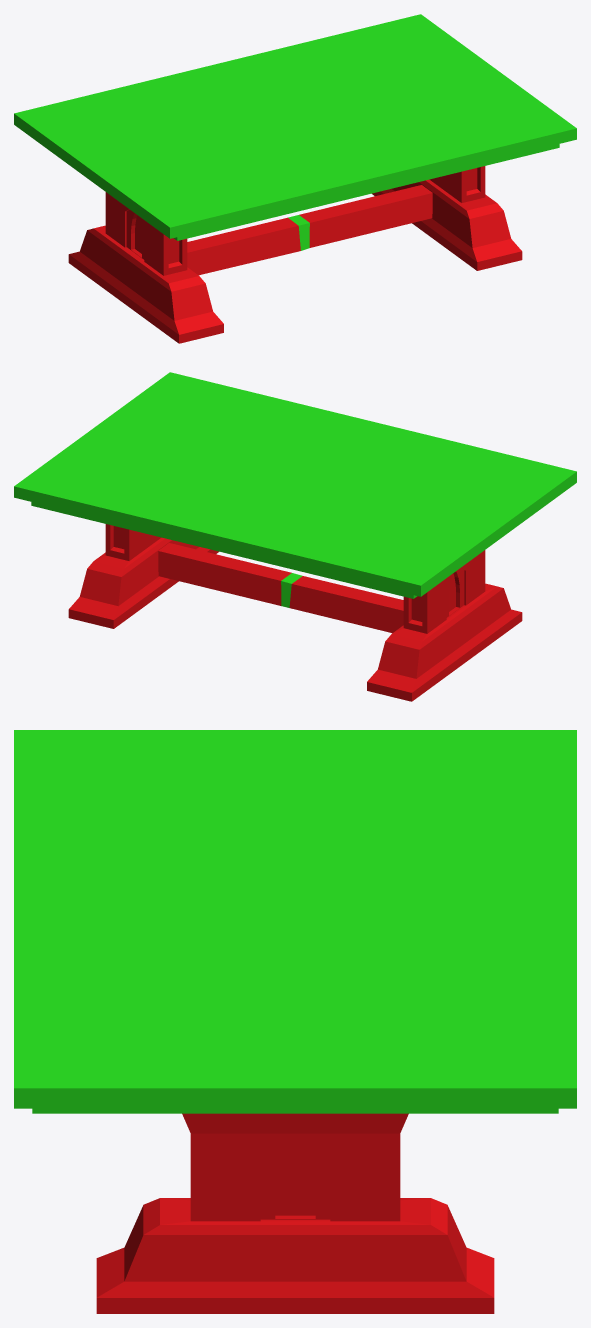
Rendered from F_stół_01.fbx.
3 renders of one model, top to bottom at view 1: azimuth 30°, elevation 25°; view 2: azimuth 150°, elevation 25°; view 3: azimuth 270°, elevation 25°, orthographic. The views are drawn at different scales.
Visible parts, largest first — view 1: Cube; view 2: Cube; view 3: Cube.
Part boxes in pixels (left/top/right/bottom): Cube: left=14, top=14, right=576, bottom=343; Cube: left=14, top=372, right=576, bottom=701; Cube: left=14, top=730, right=576, bottom=1313.
Size of the model in its own units: 815 by 269 by 541.
